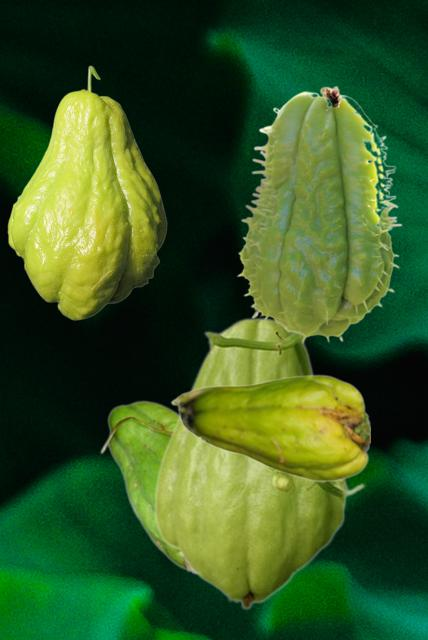sayote: (153, 317, 365, 609), (236, 85, 401, 343), (7, 65, 166, 319), (170, 374, 369, 481), (99, 400, 195, 575)
